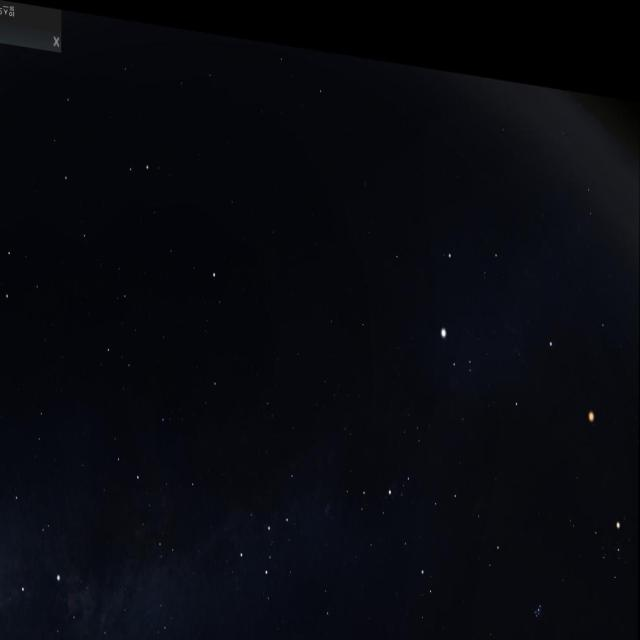cassiopeia: (232, 452, 306, 608)
pleiades: (529, 560, 551, 613)
